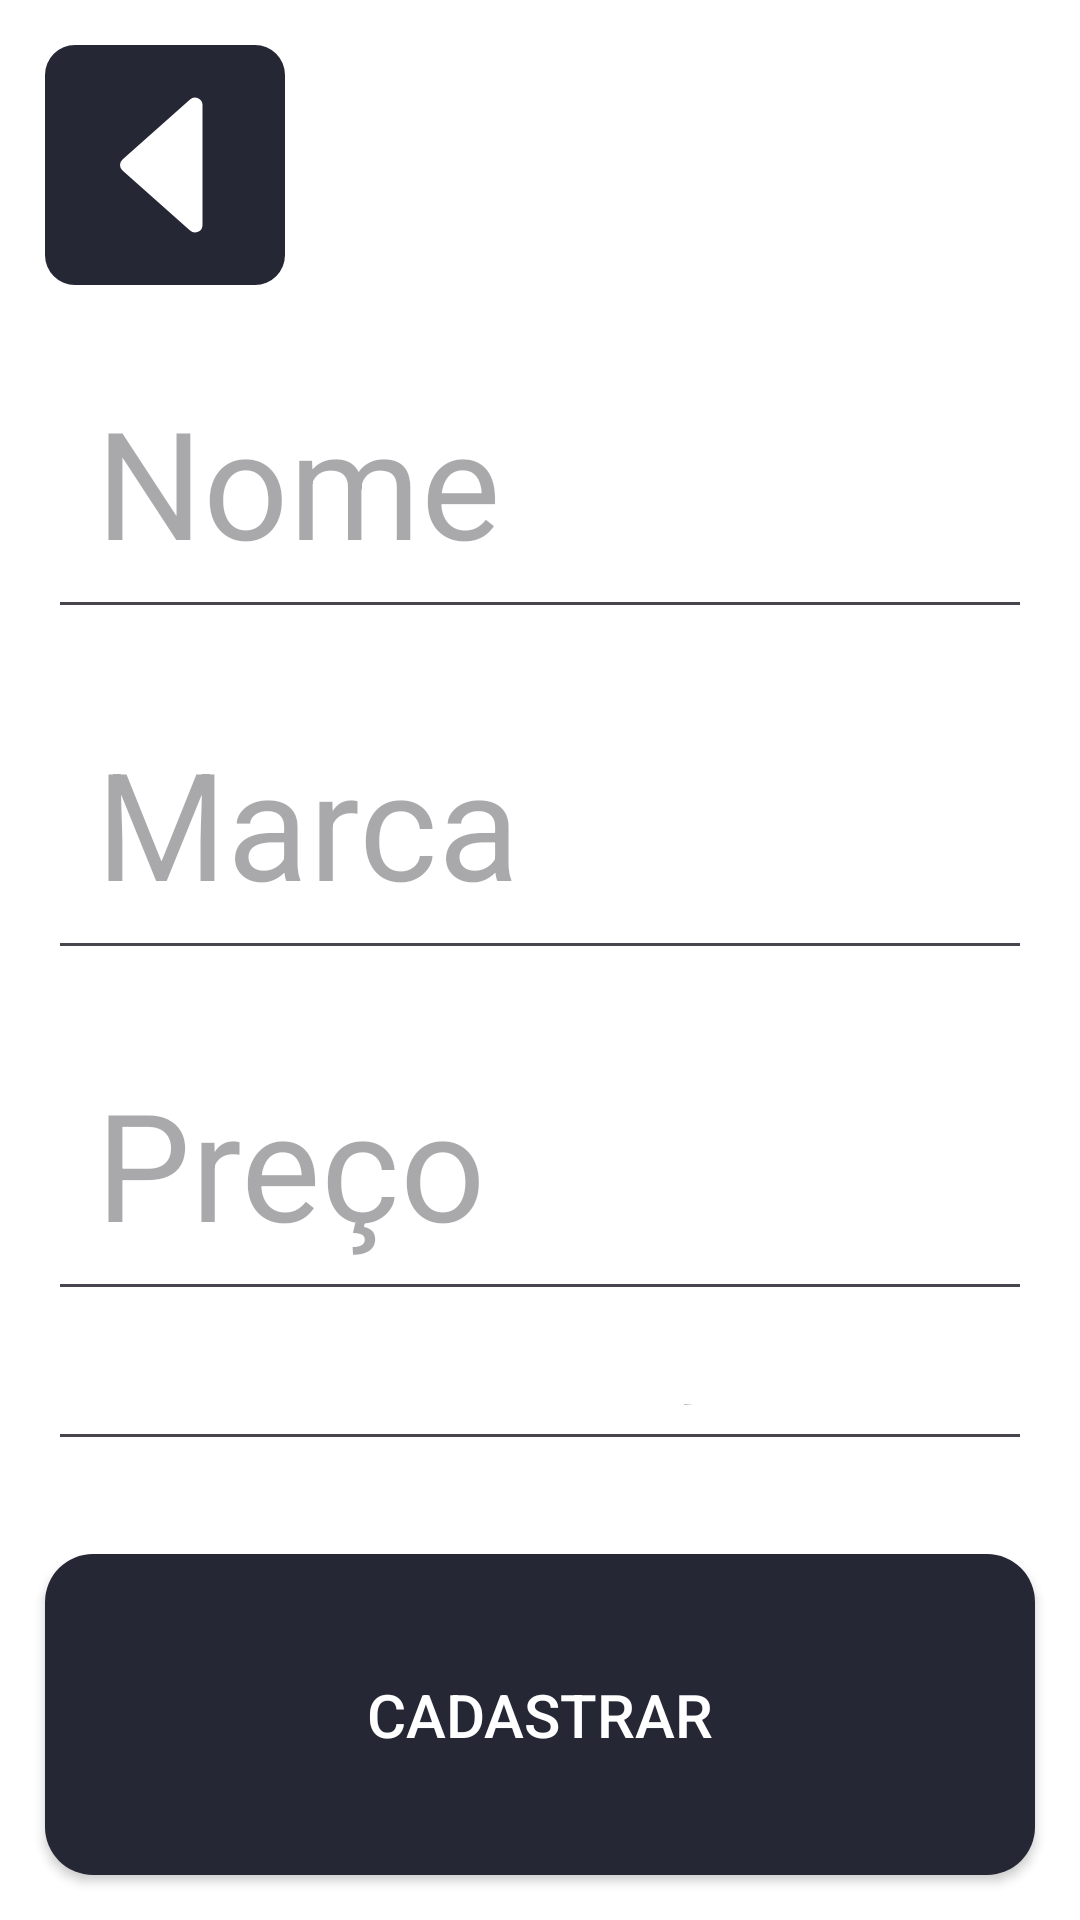

Point at icon controls on the screen. Image size 1080w x 1920h, points as [x,y].
voltar: [165,165]
